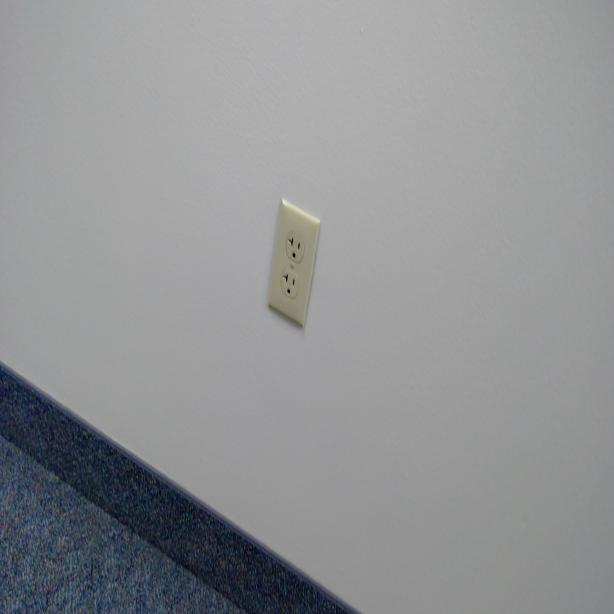typeb: (279, 268, 299, 298), (286, 232, 304, 264)
